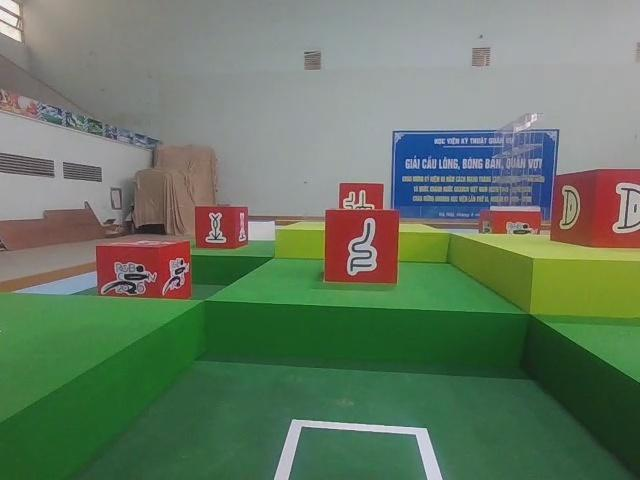R1: (97, 238, 196, 307)
R2 Fake: (323, 207, 404, 288)
R2 Real: (548, 170, 640, 251), (191, 202, 250, 254)
